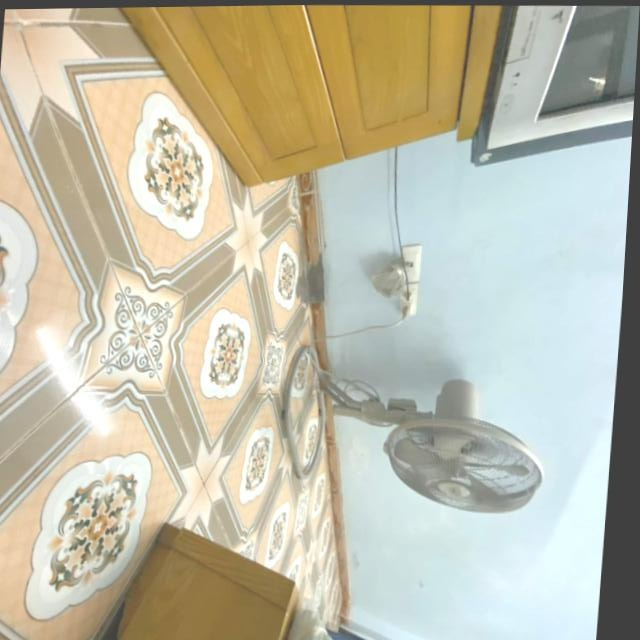outlet: (399, 243, 423, 281), (398, 283, 420, 317)
